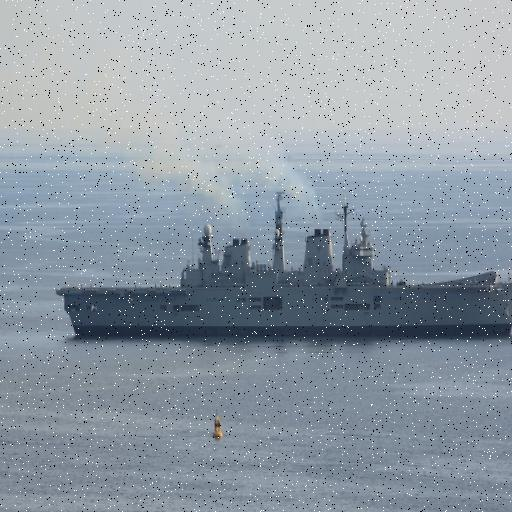Portanaves: (53, 174, 512, 347)
